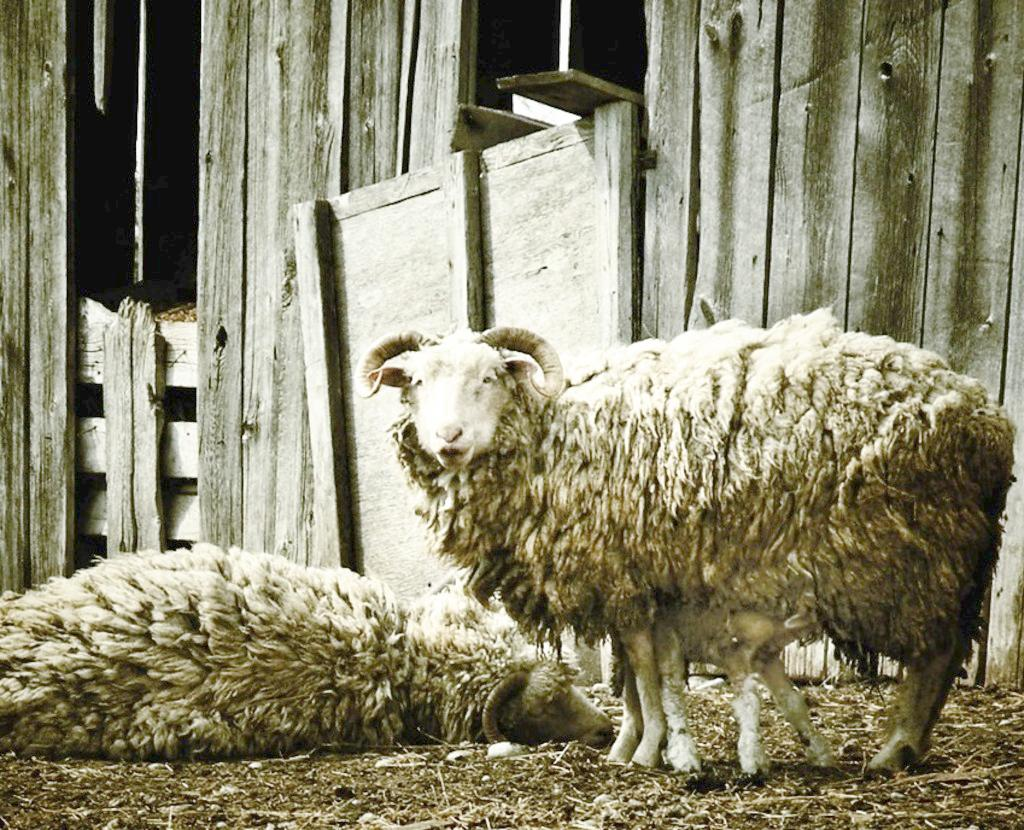Sheep: (357, 308, 1014, 778), (0, 542, 615, 760)
